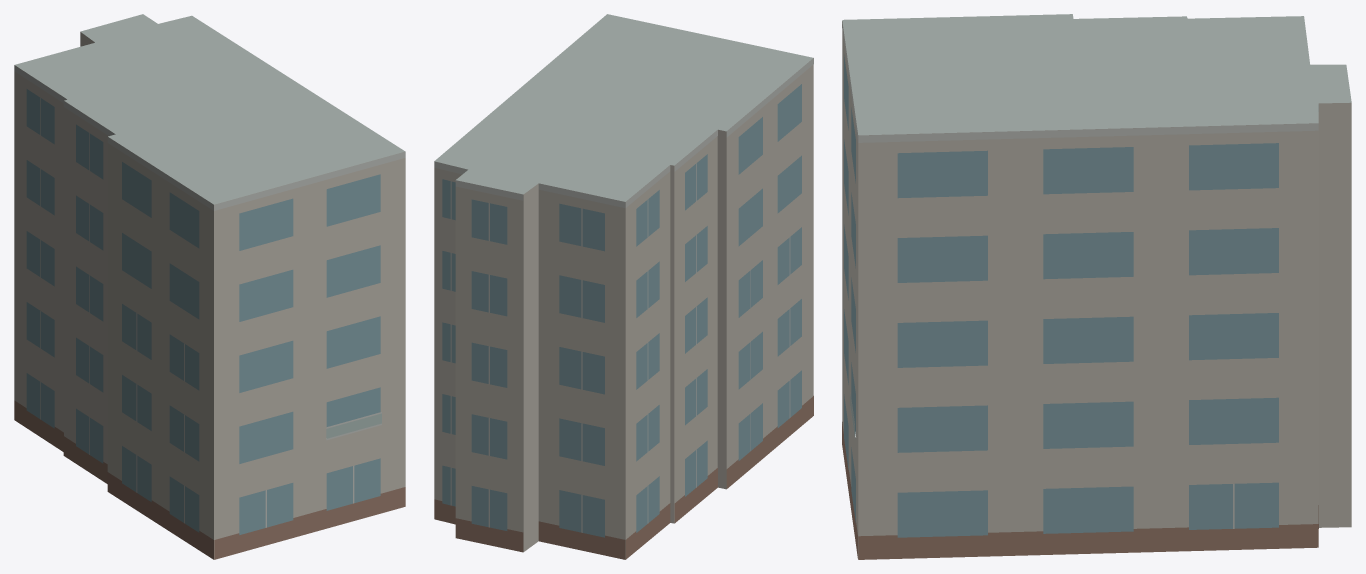
Rendered from survey-upis-33046980.glb.
The picture shows the model from 3 angles, left to right: view 1: azimuth 30°, elevation 25°; view 2: azimuth 150°, elevation 25°; view 3: azimuth 270°, elevation 25°; orthographic projection. The views are drawn at different scales.
Parts seen in each view (by area): view 1: survey-upis-33046980.tmp; view 2: survey-upis-33046980.tmp; view 3: survey-upis-33046980.tmp.
Part boxes in pixels (x1=…): survey-upis-33046980.tmp: x1=14, y1=14, x2=405, y2=559; survey-upis-33046980.tmp: x1=434, y1=14, x2=813, y2=559; survey-upis-33046980.tmp: x1=842, y1=14, x2=1351, y2=559.
Bounding box in the file's own units: 8.44 × 13.75 × 14.97.
